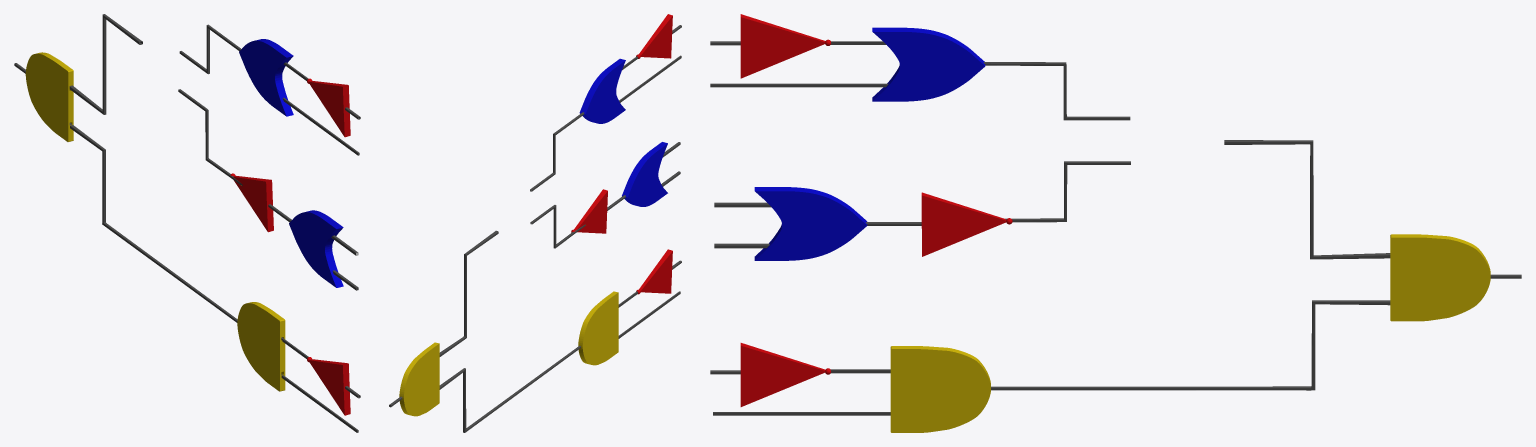
The model's file is fase4Exemplo2.fbx.
3 renders of one model, left to right at view 1: azimuth 30°, elevation 25°; view 2: azimuth 150°, elevation 25°; view 3: azimuth 270°, elevation 25°, orthographic. The views are drawn at different scales.
Parts seen in each view (by area): view 1: PortaESozinha.003, PortaESozinha.000, PortaOuSozinha.002, PortaOuSozinha.001, Cube, Cube.001, Cube.002, Plano.003, Plano.001, PortaOuSozinha.003, Plano.000, Fio (+1 smaller); view 2: PortaESozinha.003, PortaESozinha.000, PortaOuSozinha.002, PortaOuSozinha.001, Cube.001, Cube, Cube.002, Plano.003, Plano.001, Plano.000, Fio, PortaOuSozinha.003 (+1 smaller); view 3: PortaESozinha.000, PortaESozinha.003, PortaOuSozinha.002, PortaOuSozinha.001, Cube, Cube.001, Cube.002, Plano.003, Plano.001, PortaOuSozinha, PortaOuSozinha.003, Fio.
Boxes of the visible parts, <box> form: PortaESozinha.003: <box>237,302,285,391</box>; PortaESozinha.000: <box>25,52,73,141</box>; PortaOuSozinha.002: <box>239,39,293,116</box>; PortaOuSozinha.001: <box>289,210,343,287</box>; Cube: <box>307,78,350,137</box>; Cube.001: <box>307,357,350,415</box>; Cube.002: <box>230,173,273,232</box>; Plano.003: <box>69,123,237,322</box>; Plano.001: <box>69,14,142,114</box>; PortaOuSozinha.003: <box>281,337,358,432</box>; Plano.000: <box>178,89,242,185</box>; Fio: <box>179,24,241,74</box>; PortaESozinha.003: <box>578,291,618,365</box>; PortaESozinha.000: <box>399,342,439,416</box>; PortaOuSozinha.002: <box>579,58,625,123</box>; PortaOuSozinha.001: <box>622,142,667,206</box>; Cube.001: <box>636,249,672,294</box>; Cube: <box>636,14,672,58</box>; Cube.002: <box>571,189,607,233</box>; Plano.003: <box>439,346,580,432</box>; Plano.001: <box>439,230,498,356</box>; Plano.000: <box>530,205,585,248</box>; Fio: <box>530,112,584,191</box>; PortaOuSozinha.003: <box>618,291,680,338</box>; PortaESozinha.000: <box>1390,234,1490,321</box>; PortaESozinha.003: <box>890,346,990,432</box>; PortaOuSozinha.002: <box>872,27,985,101</box>; PortaOuSozinha.001: <box>754,187,867,260</box>; Cube: <box>740,14,831,78</box>; Cube.001: <box>740,343,830,406</box>; Cube.002: <box>921,192,1012,256</box>; Plano.003: <box>991,300,1390,390</box>; Plano.001: <box>1224,140,1390,259</box>; PortaOuSozinha: <box>710,41,888,87</box>; PortaOuSozinha.003: <box>713,369,890,415</box>; Fio: <box>983,62,1130,120</box>.
Bounding box in the file's own units: 3.16 × 128 × 227.
